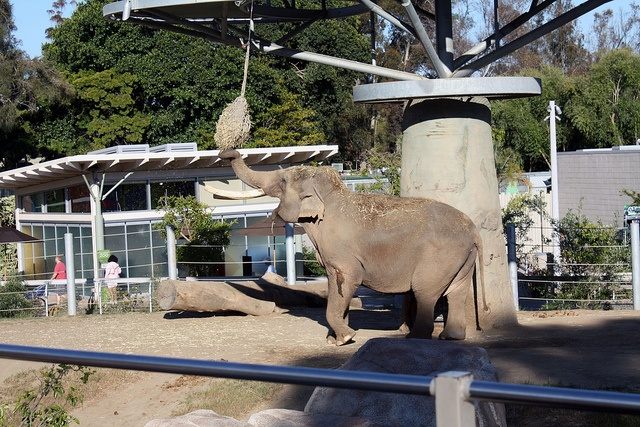elephant: (351, 247, 631, 427)
